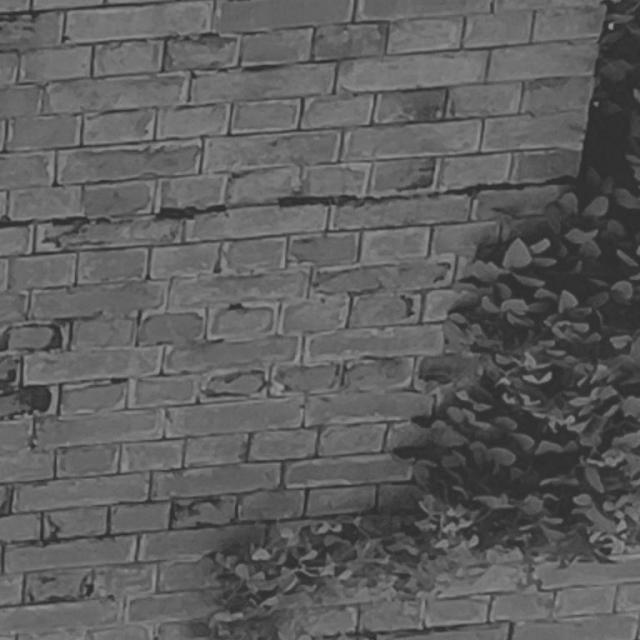crack: (1, 175, 577, 229)
